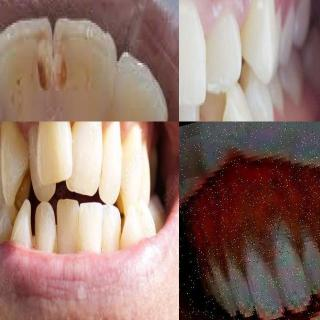cavities: (48, 38, 84, 122), (29, 25, 55, 113)
maligned: (237, 0, 283, 81), (32, 121, 80, 185), (179, 0, 207, 104), (21, 122, 53, 200), (74, 200, 106, 254), (51, 198, 80, 254), (214, 90, 264, 122), (196, 80, 232, 122), (31, 198, 57, 252), (97, 202, 124, 252), (13, 199, 37, 252)
